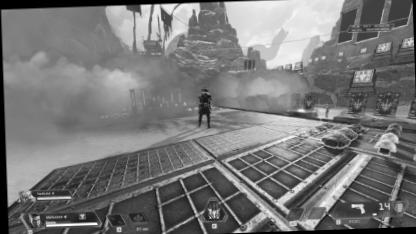Target: (196, 84, 213, 128)
